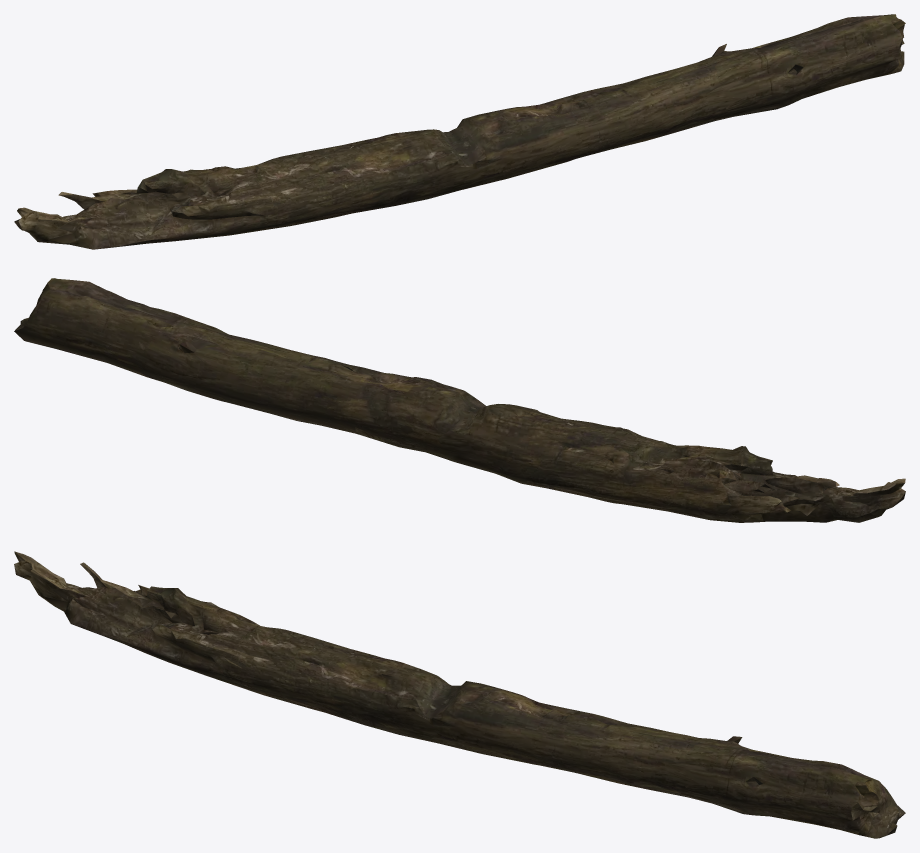
File: dead_log.glb
3 renders of one model, top to bottom at view 1: azimuth 30°, elevation 25°; view 2: azimuth 150°, elevation 25°; view 3: azimuth 330°, elevation 25°, orthographic.
Parts seen in each view (by area): view 1: dead_log; view 2: dead_log; view 3: dead_log.
Part boxes in pixels (bbox=[...]): dead_log: bbox=[14, 14, 905, 249]; dead_log: bbox=[14, 278, 905, 522]; dead_log: bbox=[14, 551, 905, 838].
Bounding box in the file's own units: 3.05 × 0.29 × 0.2765.
Materials: 1 (1 with a texture image).
